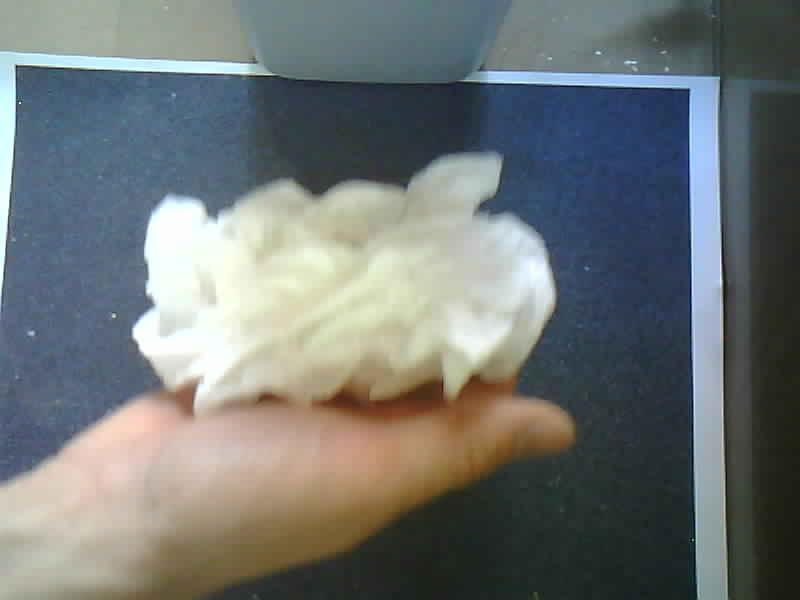paper: (133, 153, 556, 409)
